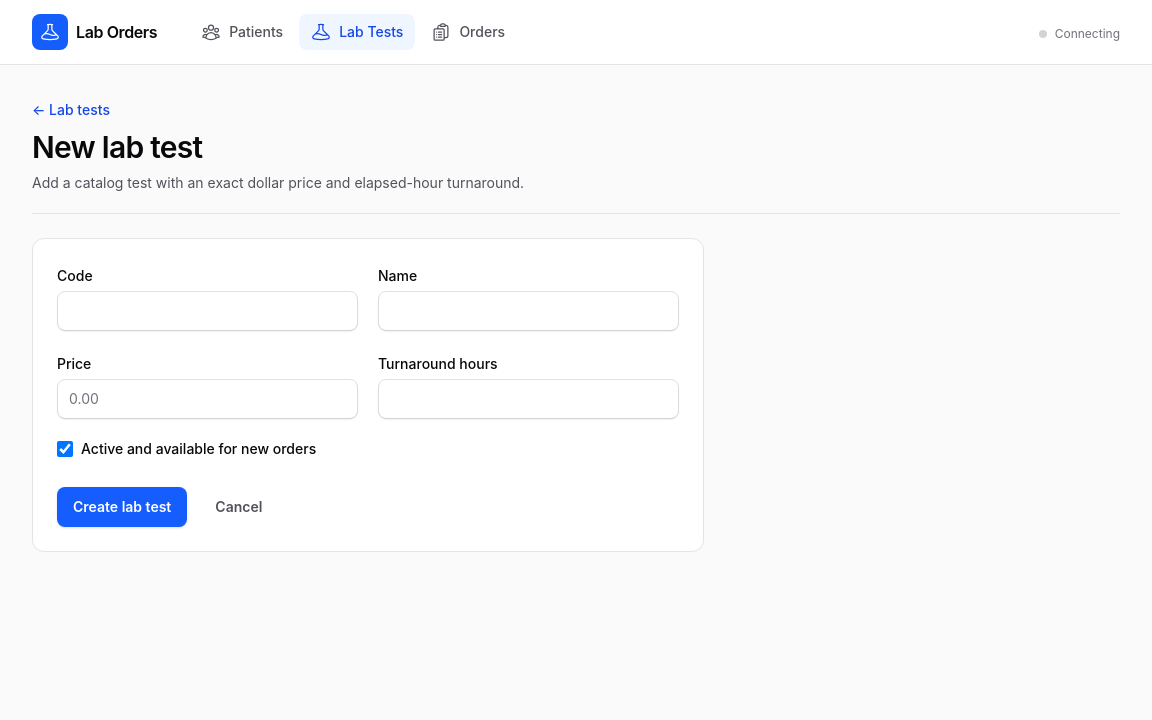
Scenario: shows useful inline errors without submitting invalid data
This screenshot has width=1152, height=720.
Step 1. Click the button "Create lab test" → click(122, 507), box [57,487,187,527]
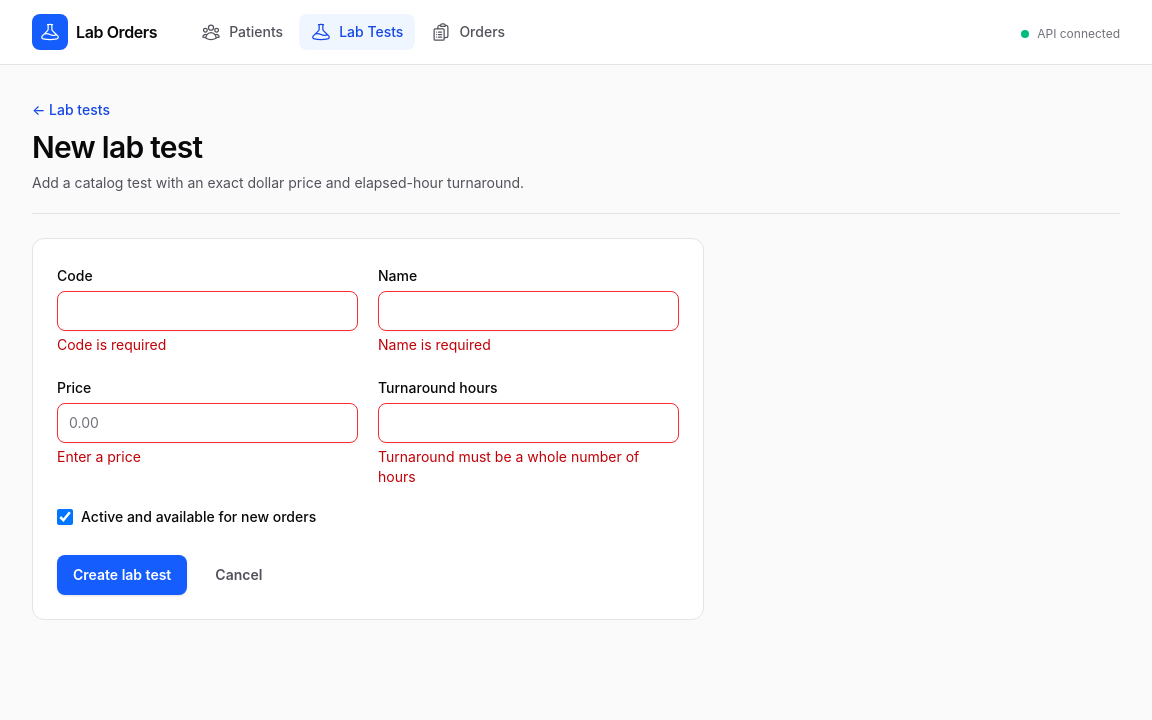
expect the text "Code is required" is shown: met, box [57,336,166,353]
expect the text "Name is required" is shown: met, box [378,336,491,353]
